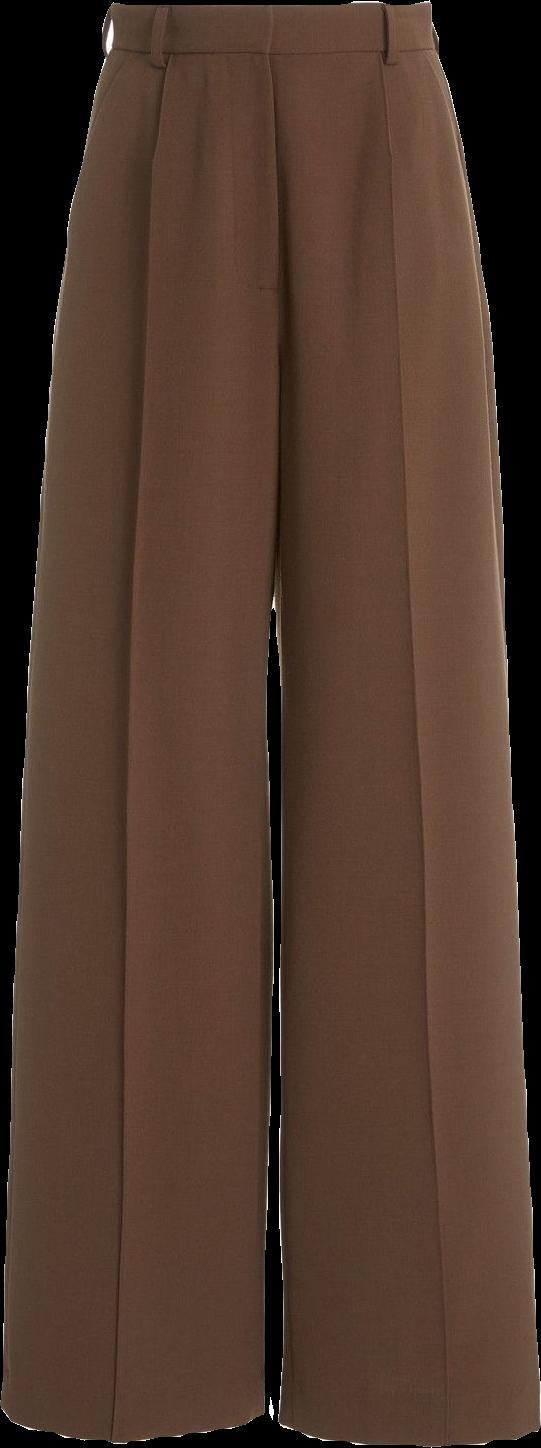Hemline: (0, 1396, 270, 1446), (274, 1413, 540, 1446)
Pantleg: (1, 2, 279, 1443), (263, 0, 539, 1443)
Waistline: (98, 32, 440, 65), (105, 0, 435, 21)
